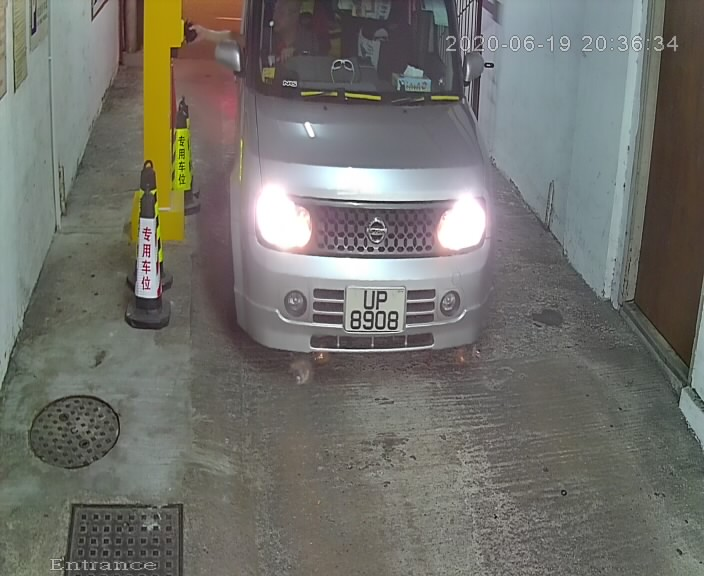privatecar: (207, 3, 506, 374)
